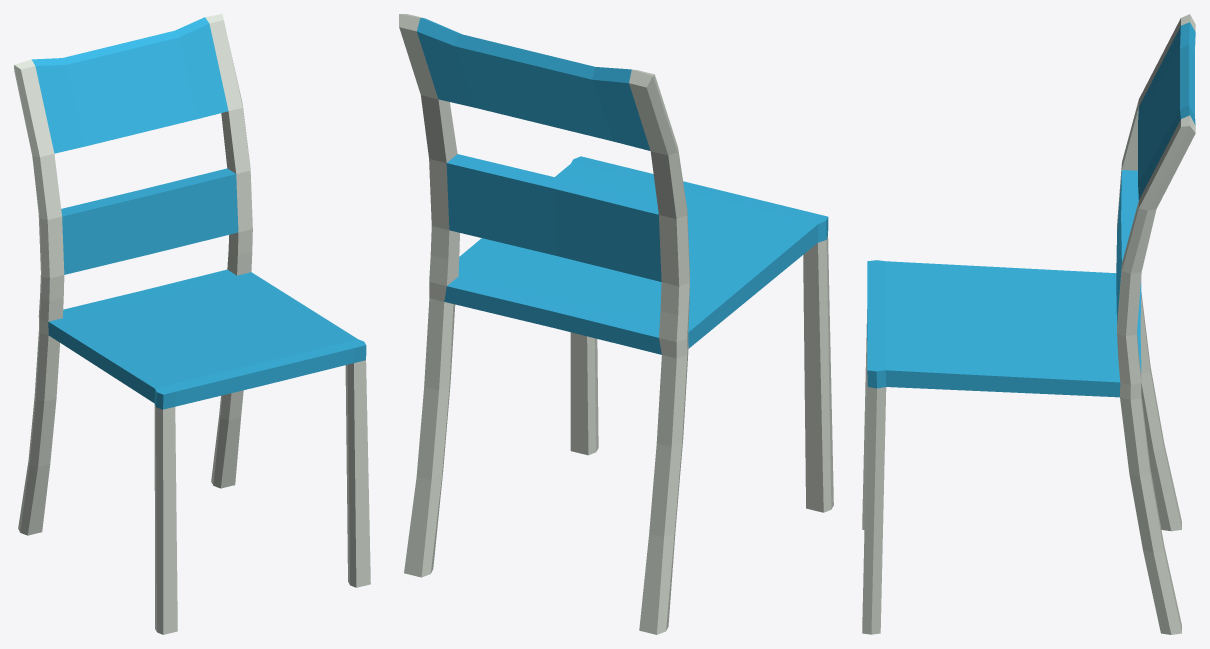
Rendered from kitchen_chair.glb.
The picture shows the model from 3 angles, left to right: view 1: azimuth 30°, elevation 25°; view 2: azimuth 150°, elevation 25°; view 3: azimuth 270°, elevation 25°; orthographic projection. The views are drawn at different scales.
Visible parts, largest first — view 1: Chair2; view 2: Chair2; view 3: Chair2.
Part boxes in pixels (x1=…): Chair2: x1=14, y1=14, x2=370, y2=634; Chair2: x1=399, y1=14, x2=833, y2=634; Chair2: x1=862, y1=14, x2=1195, y2=634.
Size of the model in its own units: 0.4653 by 0.9659 by 0.5732.
